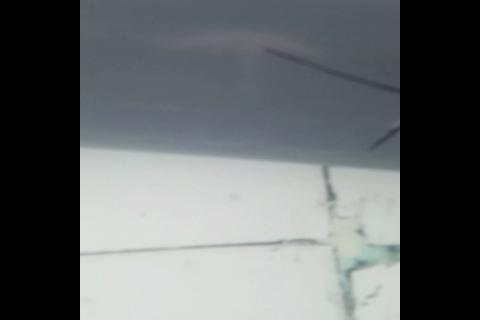keretakan: (259, 42, 400, 99), (360, 112, 400, 152)
